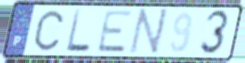3: (197, 8, 233, 57)
9: (168, 10, 197, 55)
C: (33, 8, 66, 53)
E: (95, 10, 135, 55)
L: (64, 8, 92, 55)
N: (126, 8, 170, 58)
